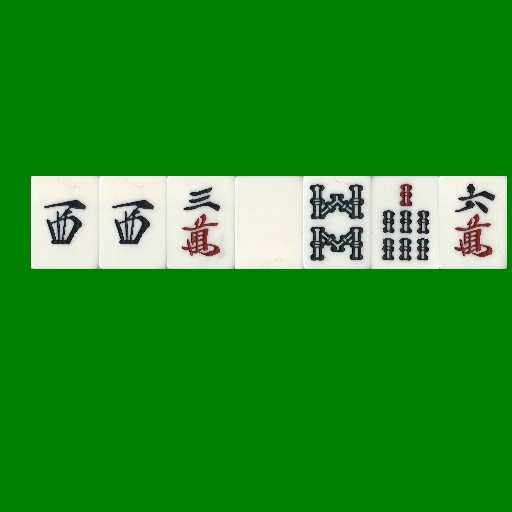3m: (167, 176, 235, 269)
6m: (439, 176, 507, 269)
7s: (371, 176, 439, 269)
8s: (303, 176, 371, 269)
west: (31, 176, 99, 269), (99, 176, 167, 269)
white: (235, 176, 303, 269)
